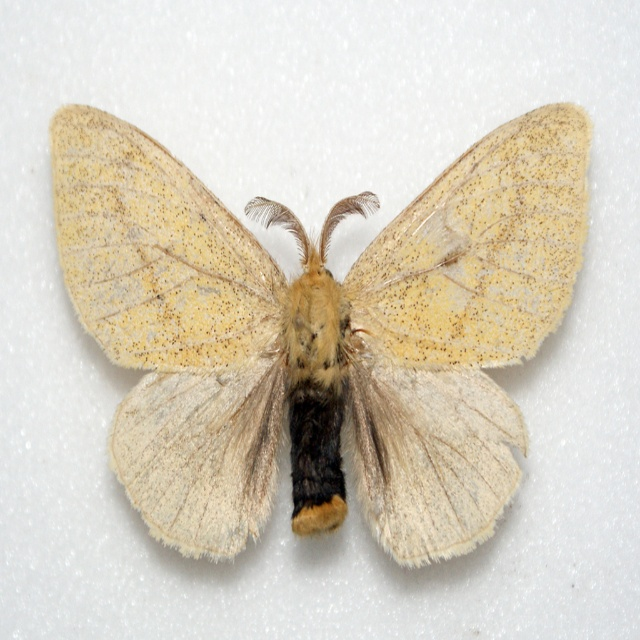Butterfly: (50, 100, 592, 569)
